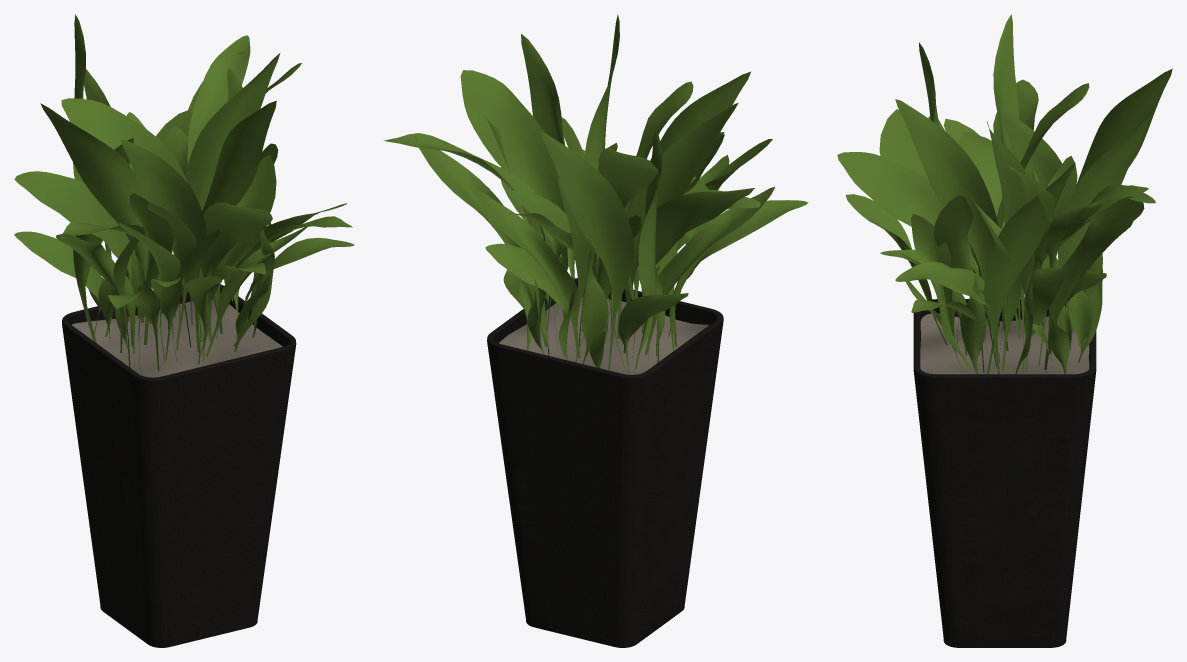
Rendered from Tree S1.fbx.
3 views of the same model, side by side, from view 1: azimuth 30°, elevation 25°; view 2: azimuth 150°, elevation 25°; view 3: azimuth 270°, elevation 25° (orthographic).
Parts seen in each view (by area): view 1: grt_8_1, grt_8_4, grt_8_2; view 2: grt_8_4, grt_8_1, grt_8_2; view 3: grt_8_4, grt_8_1, grt_8_2.
Part boxes in pixels (left/top/right/bottom): grt_8_1: left=62, top=284, right=296, bottom=647; grt_8_4: left=14, top=14, right=354, bottom=372; grt_8_2: left=72, top=298, right=293, bottom=377; grt_8_4: left=384, top=14, right=808, bottom=374; grt_8_1: left=487, top=278, right=723, bottom=647; grt_8_2: left=499, top=296, right=708, bottom=374; grt_8_4: left=837, top=14, right=1172, bottom=374; grt_8_1: left=913, top=299, right=1096, bottom=647; grt_8_2: left=919, top=313, right=1089, bottom=386.
Bounding box in the file's own units: 672 × 1169 × 651.
